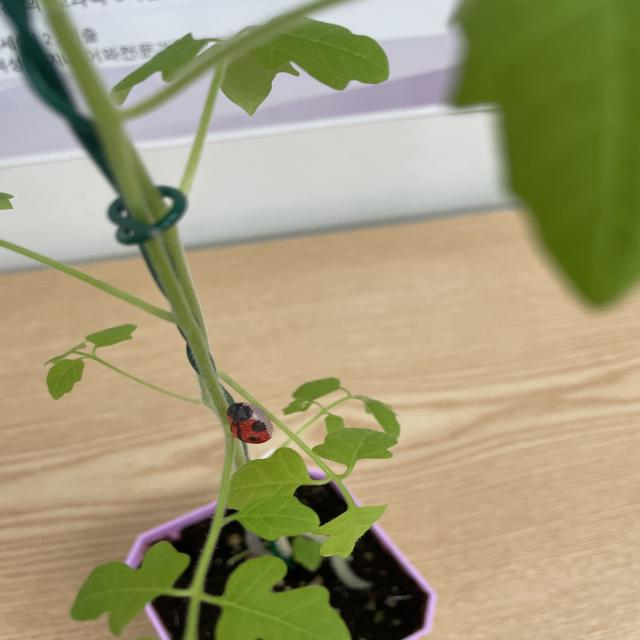bug: (202, 396, 299, 451)
